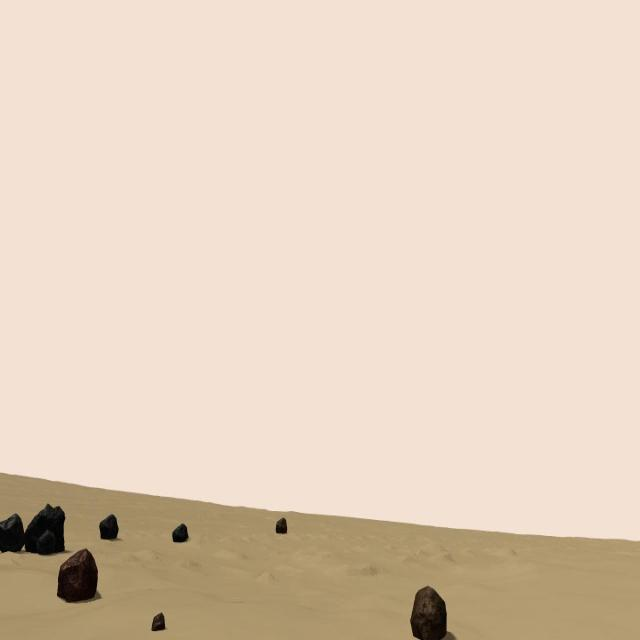rock: (55, 547, 98, 600), (24, 504, 66, 556), (410, 586, 447, 640), (0, 511, 24, 553), (99, 514, 118, 541), (36, 532, 54, 556), (172, 523, 188, 543), (151, 612, 165, 630), (276, 518, 287, 533)
